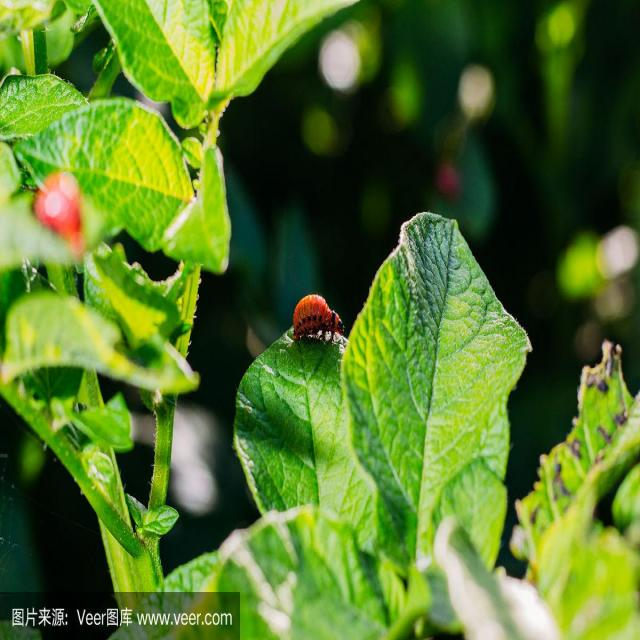ShuCaiHuaBanChong-Larva-: (282, 277, 364, 362)
